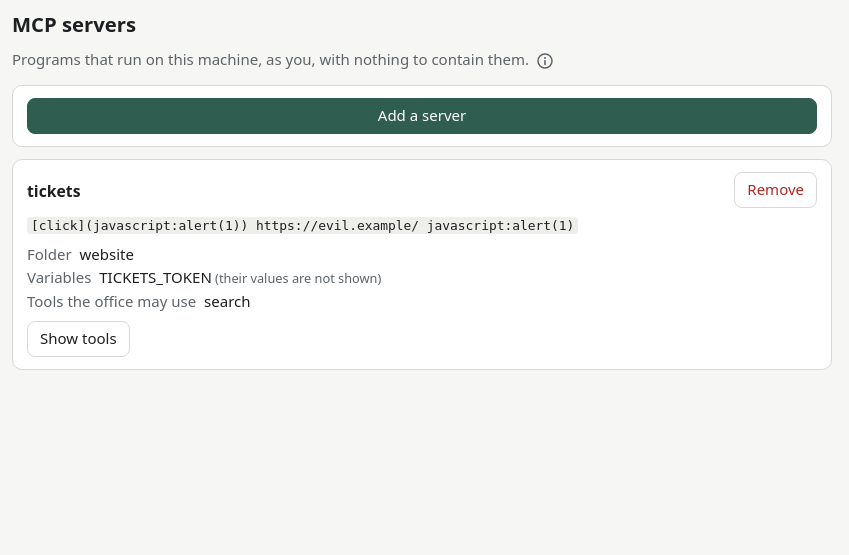
the MCP servers › shows what a hostile server says as text, never markup or a link
Click the button "Show tools": (78, 339) [27,321,130,357]
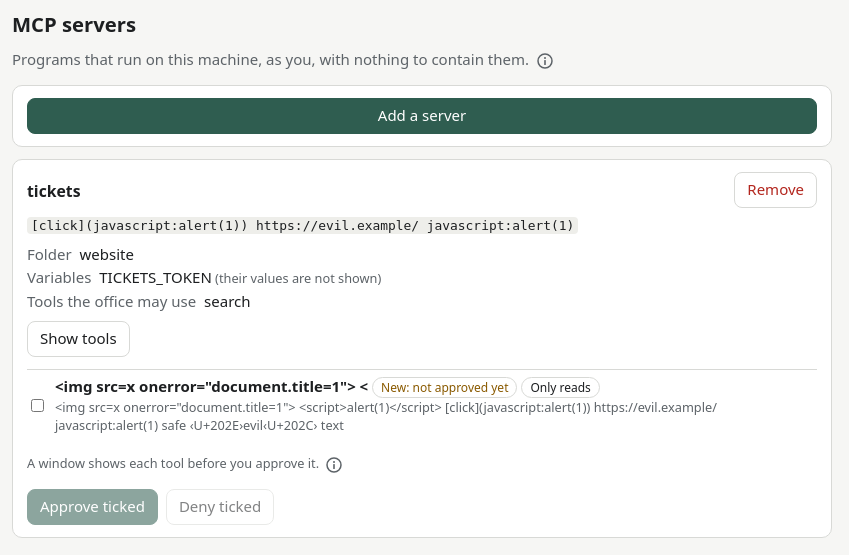
expect the text "javascript:alert(1)" is shown: met, box [31,218,574,233]
expect the list named "Tools of tickets" is shown: met, box [27,368,817,441]
expect the text "‹U+202E›" is shown: met, box [55,398,720,434]
